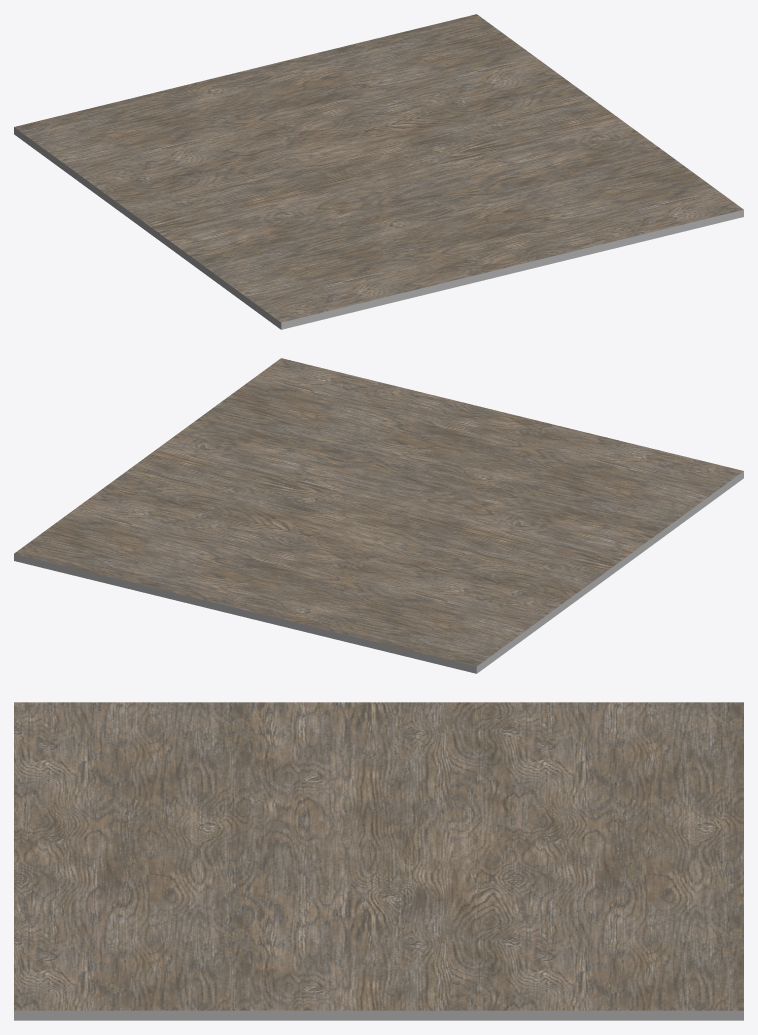
Rendered from jov_roofwood_8t.fbx.
3 views of the same model, one above another, from view 1: azimuth 30°, elevation 25°; view 2: azimuth 150°, elevation 25°; view 3: azimuth 270°, elevation 25° (orthographic). The views are drawn at different scales.
Parts seen in each view (by area): view 1: jov_roofwood_8t; view 2: jov_roofwood_8t; view 3: jov_roofwood_8t.
Part boxes in pixels (x1=…): jov_roofwood_8t: x1=14, y1=14, x2=743, y2=329; jov_roofwood_8t: x1=14, y1=358, x2=743, y2=673; jov_roofwood_8t: x1=14, y1=702, x2=743, y2=1020.
Size of the model in its own units: 440 by 6.63 by 440.
